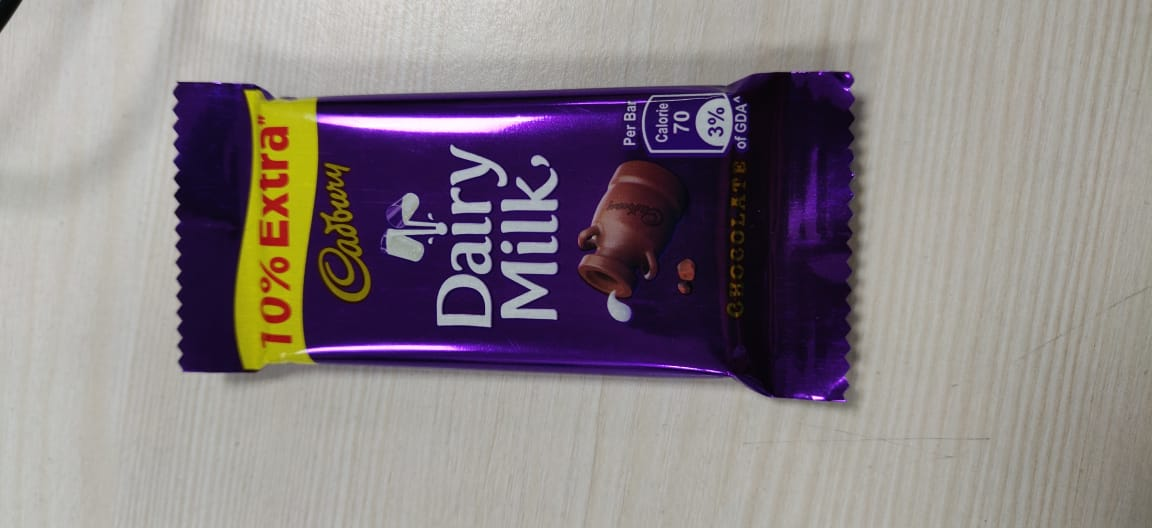dairy milk: (163, 68, 861, 412)
